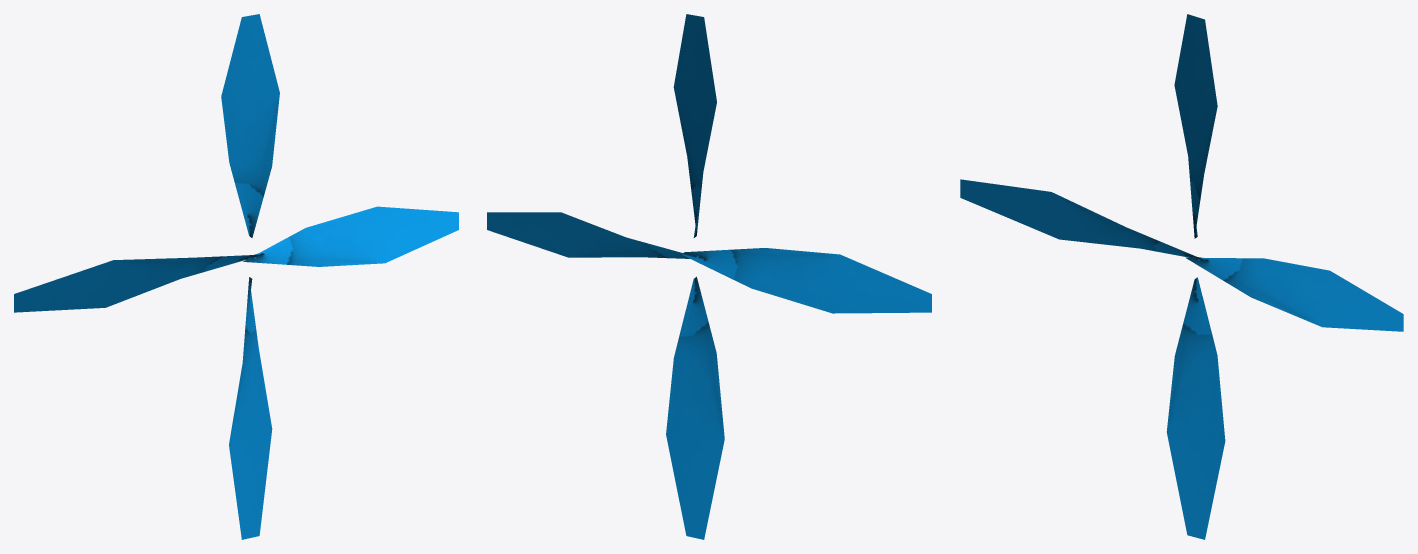
File: plane6_blades.obj
The picture shows the model from 3 angles, left to right: view 1: azimuth 30°, elevation 25°; view 2: azimuth 150°, elevation 25°; view 3: azimuth 330°, elevation 25°; orthographic projection.
Parts seen in each view (by area): view 1: Catoon_AC130_fan4; view 2: Catoon_AC130_fan4; view 3: Catoon_AC130_fan4.
Boxes of the visible parts, x1=… form: Catoon_AC130_fan4: x1=14, y1=14, x2=458, y2=539; Catoon_AC130_fan4: x1=487, y1=14, x2=931, y2=539; Catoon_AC130_fan4: x1=960, y1=14, x2=1403, y2=539.
Bounding box in the file's own units: 12.47 × 14.02 × 0.649.
Materials: 1 (1 with a texture image).
